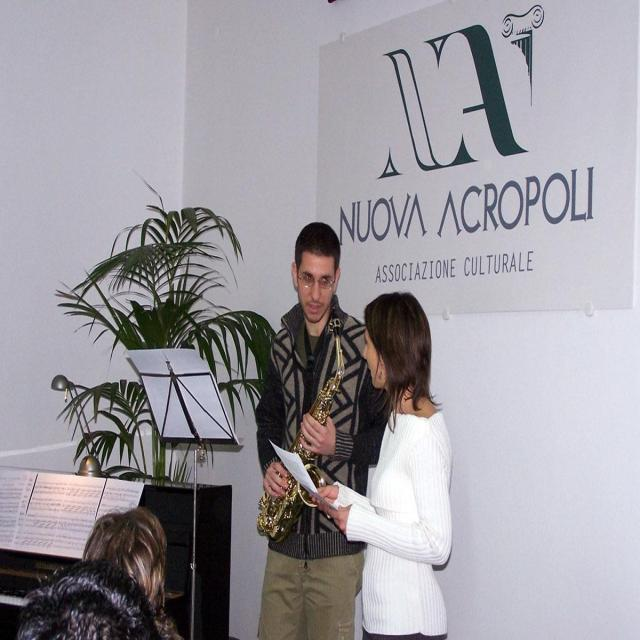saxophone: (257, 306, 348, 543)
